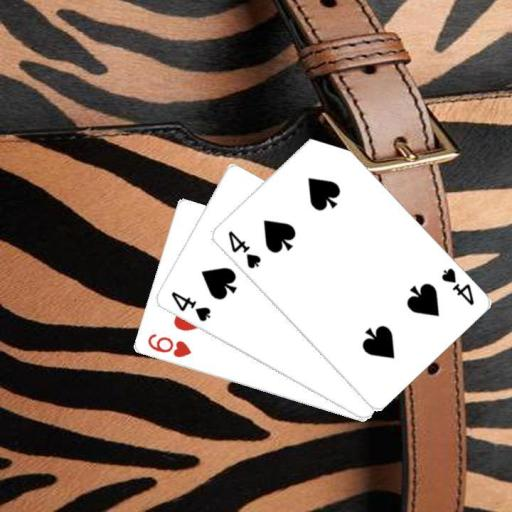4S: (224, 228, 262, 270), (437, 265, 475, 307), (168, 289, 212, 324)
6H: (144, 331, 193, 360)
